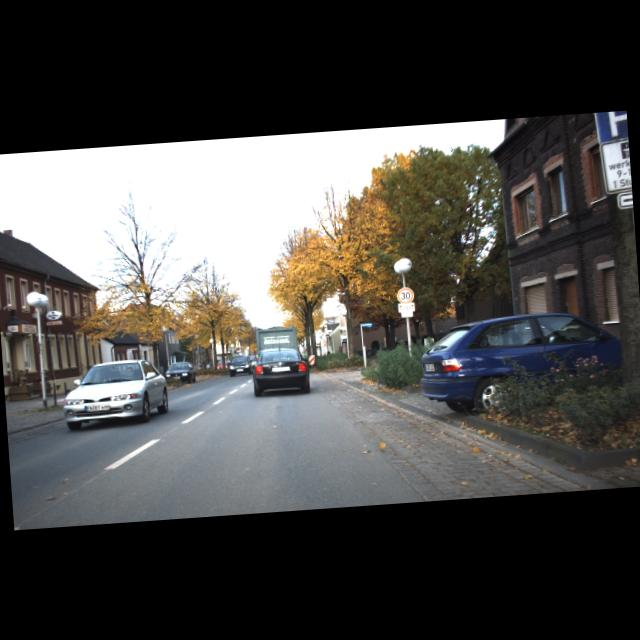prohibitory: (396, 286, 414, 304)
